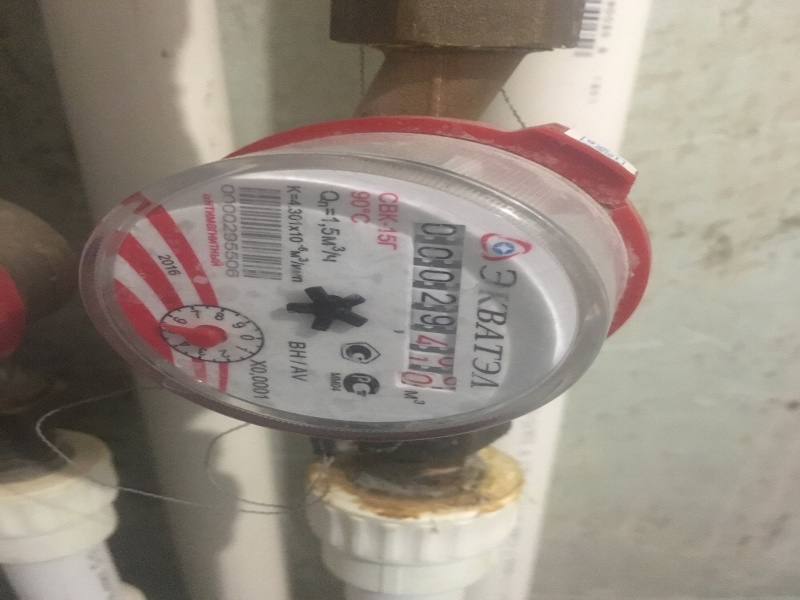dial: (409, 229, 456, 388)
